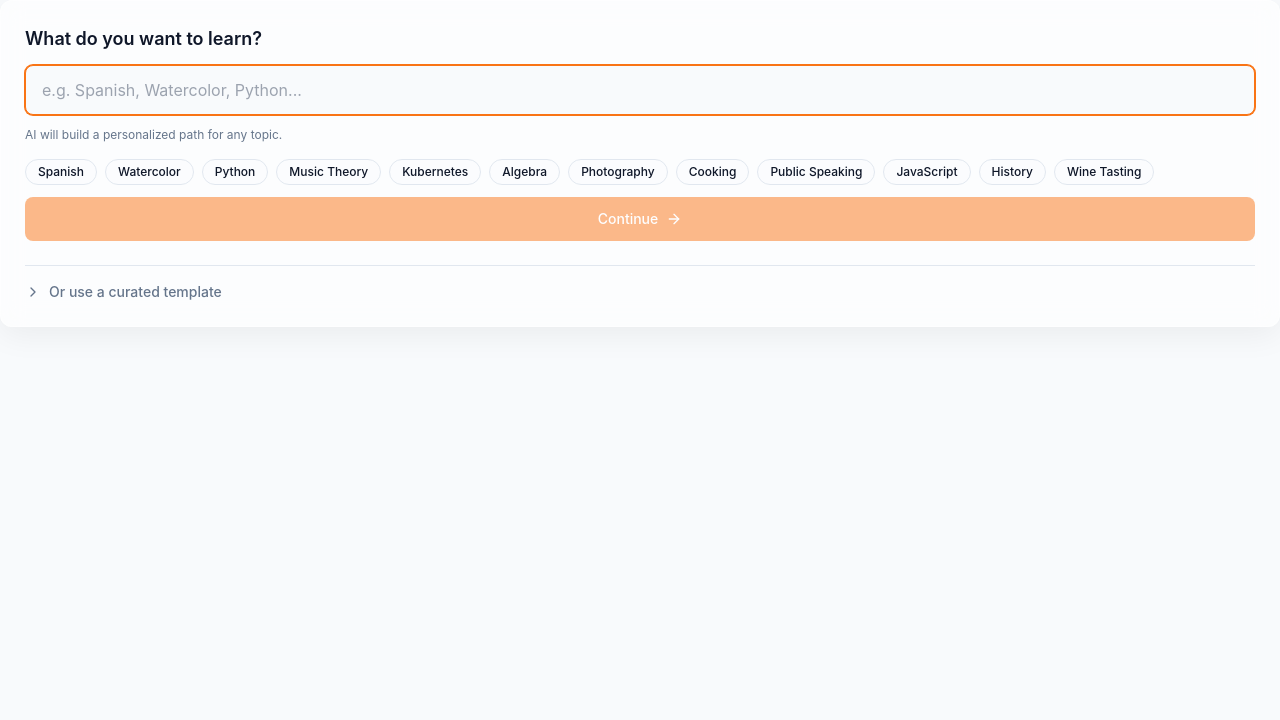
TopicPicker › expanding templates reveals bundled packs + skills
Click the button with test id "templates-toggle" at x=135, y=292, box [25, 282, 1255, 302]
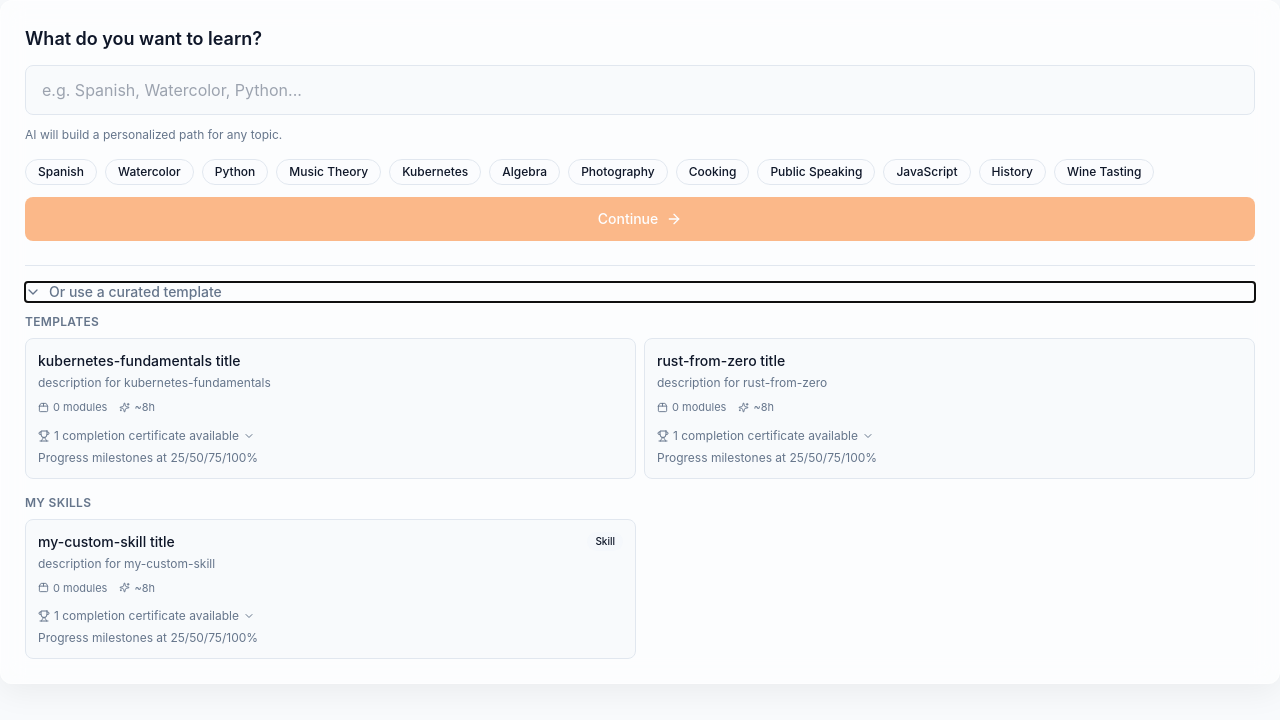
Expected: the button with test id "pack-card-kubernetes-fundamentals" is shown, [25, 338, 636, 478]
Expected: the button with test id "pack-card-rust-from-zero" is shown, [644, 338, 1255, 478]
Expected: the heading "My Skills" is shown, [25, 494, 91, 510]
